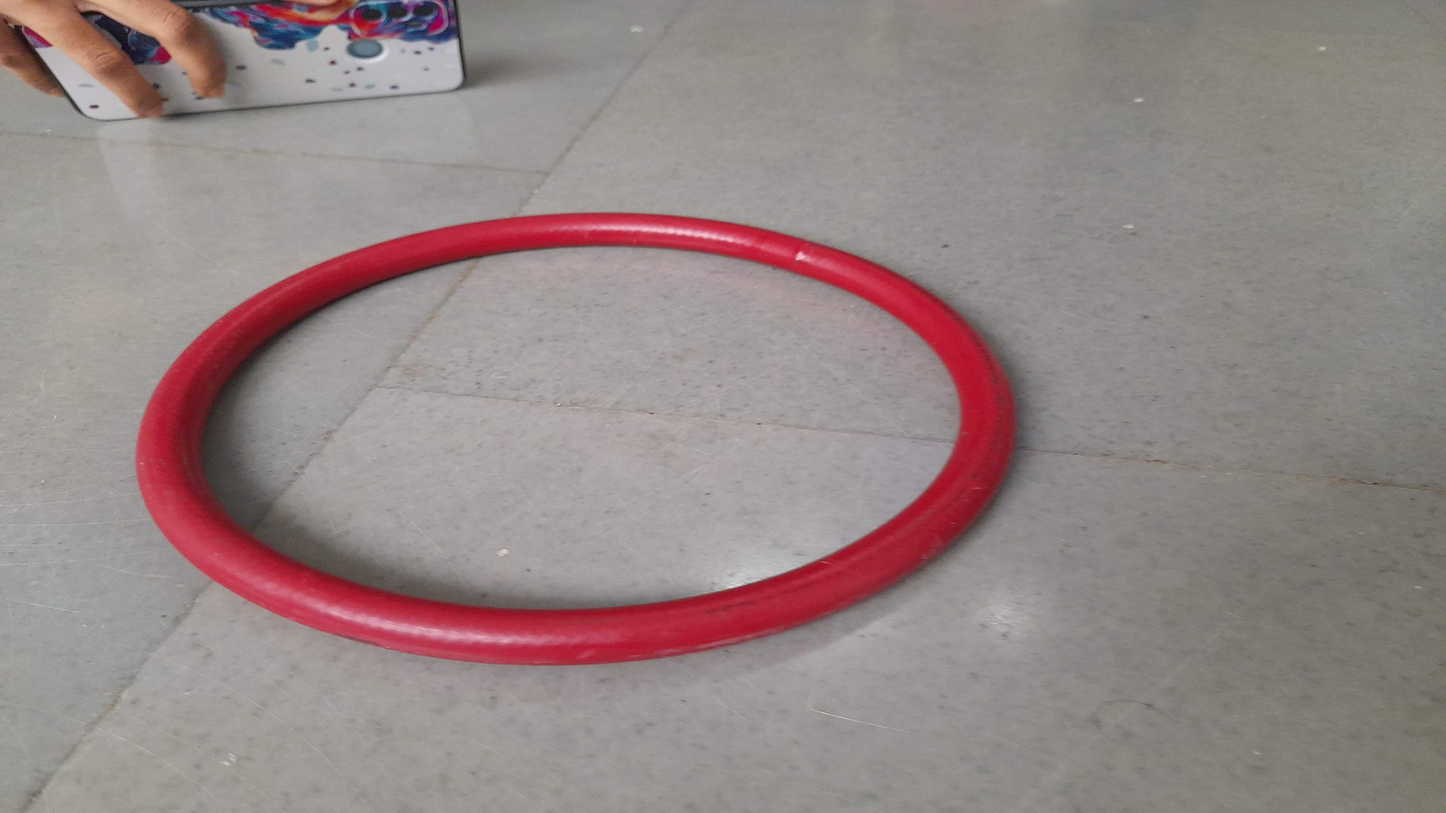Red ring: (134, 210, 1012, 662)
